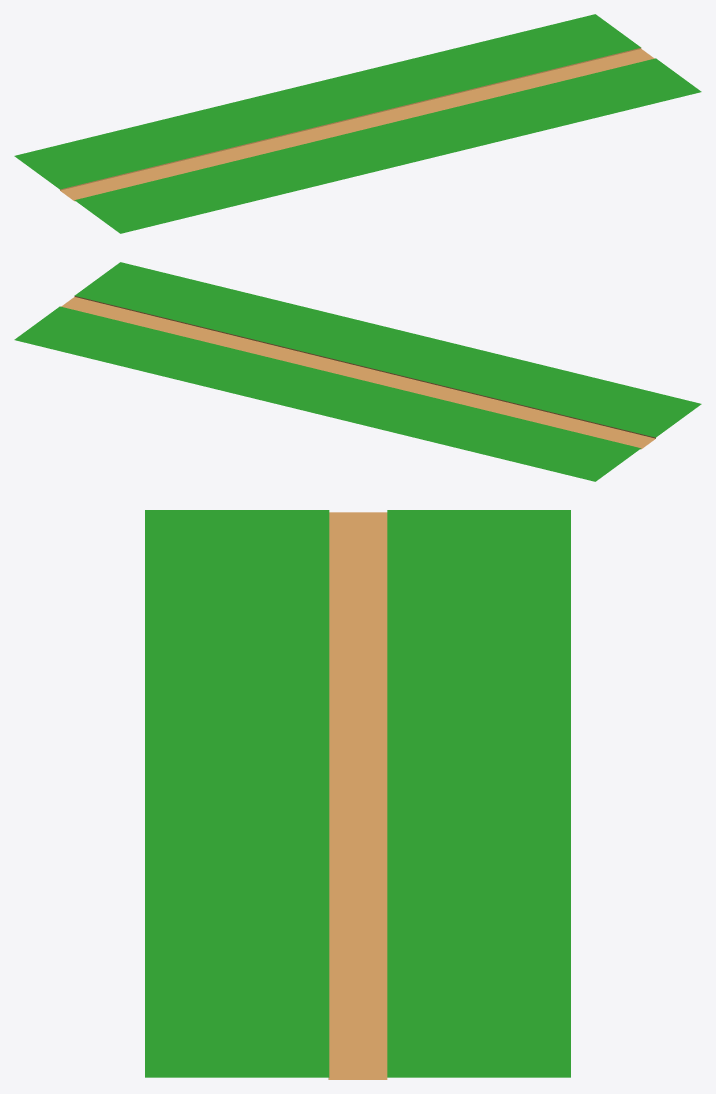
The model's file is GroundModel.fbx.
The picture shows the model from 3 angles, top to bottom: view 1: azimuth 30°, elevation 25°; view 2: azimuth 150°, elevation 25°; view 3: azimuth 270°, elevation 25°; orthographic projection. The views are drawn at different scales.
Parts seen in each view (by area): view 1: Ground; view 2: Ground; view 3: Ground.
Part boxes in pixels (x1,y1,x2,y2): Ground: (14,14,701,233); Ground: (14,262,701,481); Ground: (145,510,570,1079).
Bounding box in the file's own units: 20352 × 37.94 × 6454.
